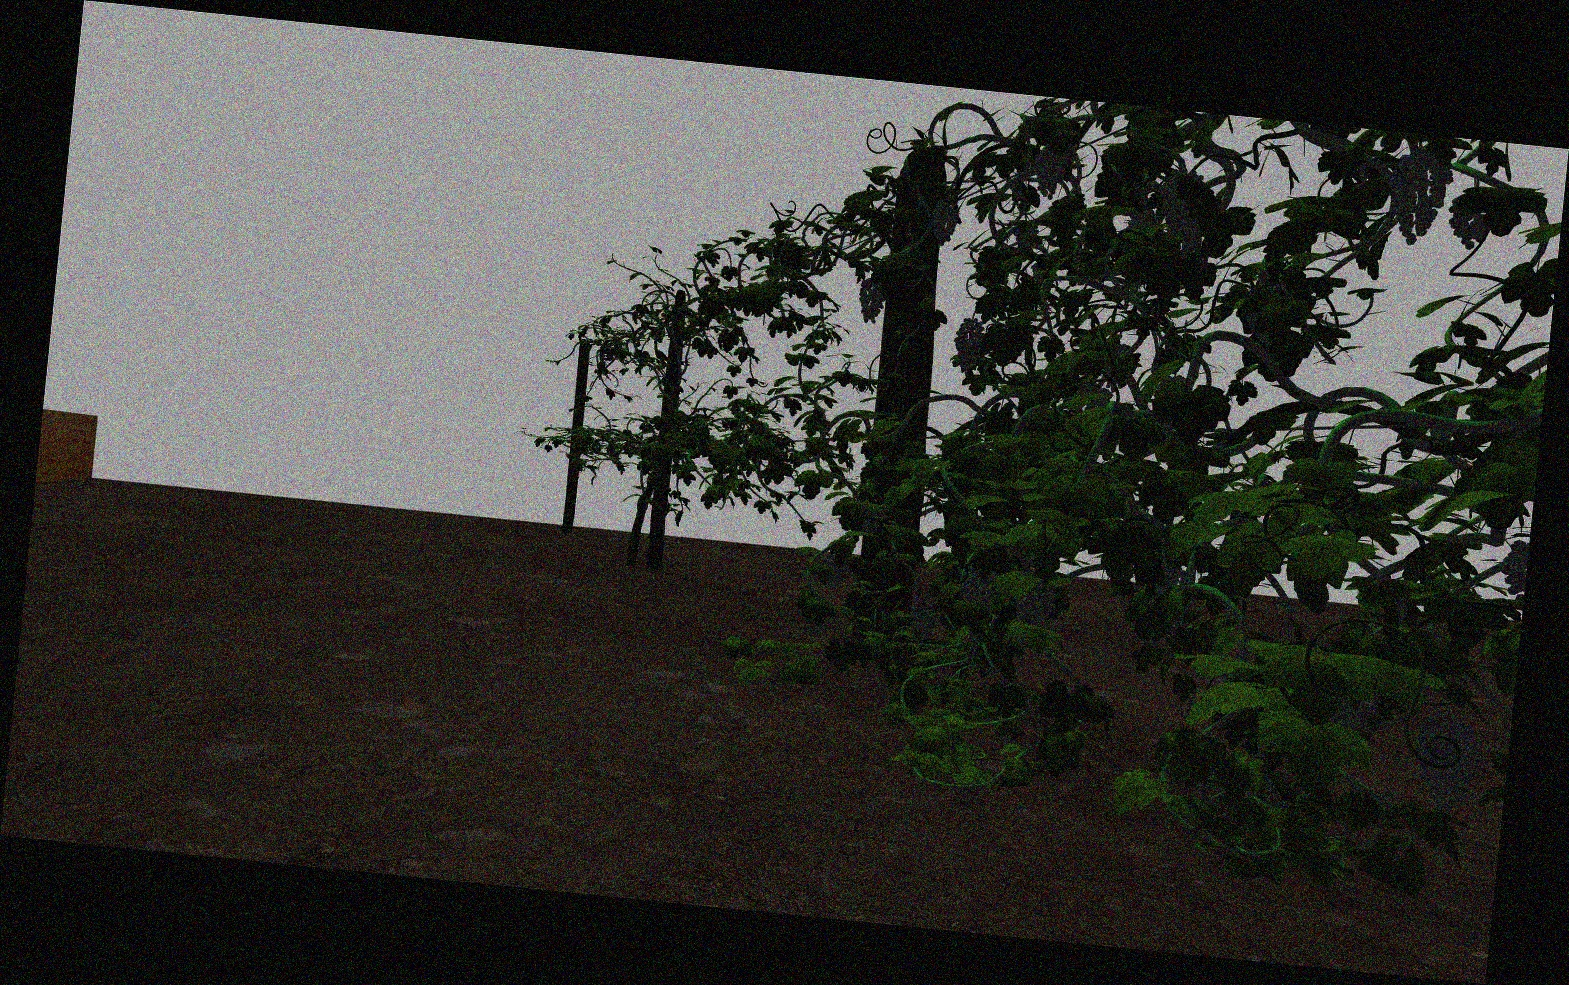grape: (1409, 717, 1482, 809), (1387, 148, 1452, 247), (1154, 166, 1209, 258), (1032, 133, 1078, 201), (1013, 579, 1056, 633), (952, 317, 986, 376), (961, 563, 999, 614), (908, 596, 939, 646), (857, 273, 886, 325), (931, 200, 959, 250), (821, 550, 849, 587)
